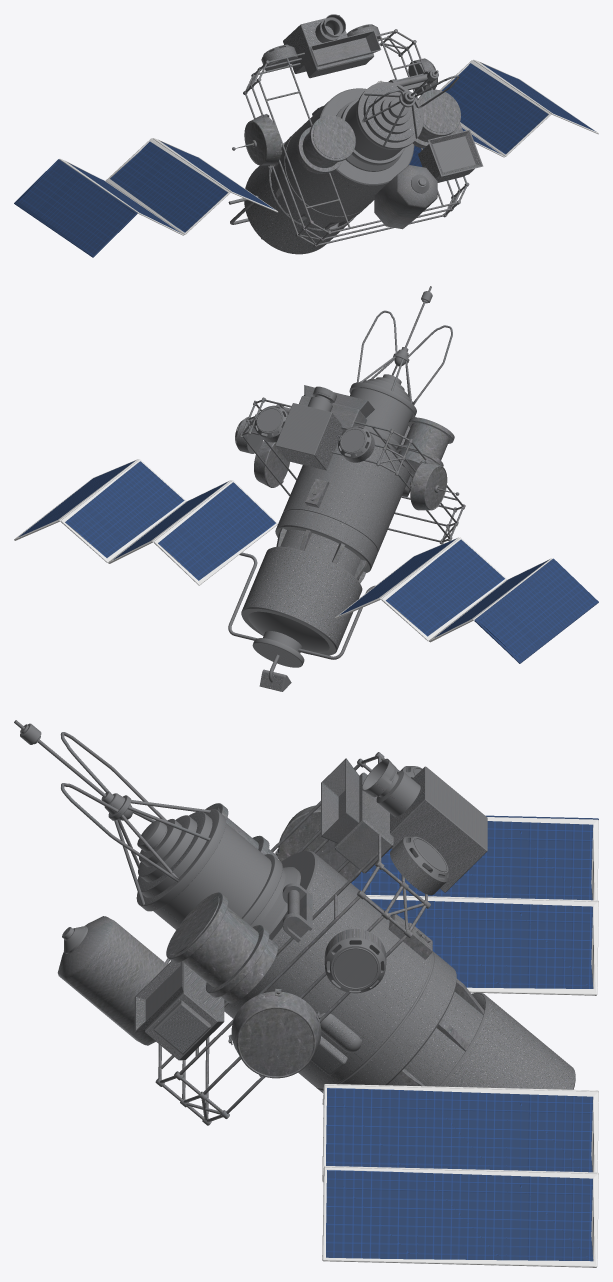
The model's file is satelite.FBX.
3 renders of one model, top to bottom at view 1: azimuth 30°, elevation 25°; view 2: azimuth 150°, elevation 25°; view 3: azimuth 270°, elevation 25°, orthographic. The views are drawn at different scales.
Visible parts, largest first — view 1: ChamferCyl01, Box05, Box08, Line04, Box04, Cylinder22, Cylinder02, Line08, OilTank01, Loft02, ChamferBox02, Line07 (+15 smaller); view 2: Cylinder02, ChamferCyl01, Box05, Box03, Box08, Box04, ChamferBox01, Line04, Cylinder22, Line08, Gengon07, Line02 (+19 smaller); view 3: Box01, Box02, ChamferCyl01, Box06, Line04, Box07, Cylinder02, Line07, OilTank01, Gengon02, ChamferBox01, ChamferBox02 (+16 smaller).
Part boxes in pixels (x1,y1,x2,y2): ChamferCyl01: [278, 88, 414, 222]; Box05: [18, 162, 134, 255]; Box08: [110, 141, 227, 232]; Line04: [336, 82, 423, 171]; Box04: [442, 63, 548, 154]; Cylinder22: [243, 29, 469, 247]; Cylinder02: [244, 142, 355, 254]; Line08: [296, 115, 355, 173]; OilTank01: [374, 165, 437, 229]; Loft02: [301, 30, 381, 78]; ChamferBox02: [418, 129, 483, 182]; Line07: [412, 89, 460, 148]; Cylinder02: [241, 529, 362, 655]; ChamferCyl01: [275, 442, 411, 572]; Box05: [478, 560, 596, 658]; Box03: [158, 482, 275, 580]; Box08: [386, 539, 504, 636]; Box04: [65, 461, 184, 557]; ChamferBox01: [275, 403, 342, 470]; Line04: [349, 374, 416, 451]; Cylinder22: [239, 397, 465, 544]; Line08: [396, 417, 454, 474]; Gengon07: [410, 459, 459, 510]; Line02: [252, 631, 304, 667]; Box01: [326, 1170, 593, 1261]; Box02: [326, 1088, 593, 1172]; ChamferCyl01: [224, 850, 456, 1093]; Box06: [371, 899, 593, 988]; Line04: [136, 809, 300, 934]; Box07: [351, 821, 593, 900]; Cylinder02: [387, 992, 575, 1089]; Line07: [166, 892, 277, 1003]; OilTank01: [57, 916, 167, 1045]; Gengon02: [231, 991, 321, 1078]; ChamferBox01: [390, 766, 487, 892]; ChamferBox02: [134, 961, 224, 1060].
Bounding box in the file's own units: 312 × 167 × 179.
